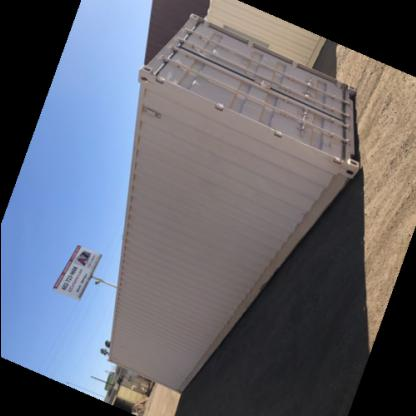Damage: (168, 318, 191, 346)
